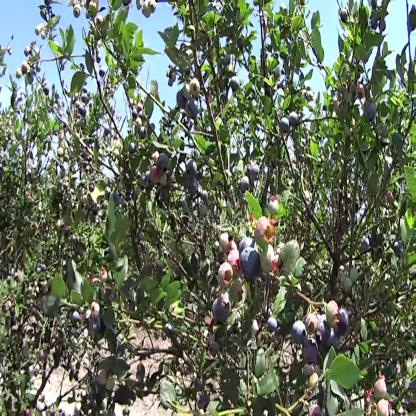intermediate: (258, 218, 282, 273), (220, 255, 240, 286), (374, 379, 388, 398), (149, 166, 160, 185), (92, 303, 101, 316)
mature: (243, 247, 260, 274), (214, 293, 230, 320), (281, 113, 298, 136), (186, 163, 200, 189), (317, 324, 333, 346), (304, 342, 318, 364), (157, 156, 171, 175), (292, 324, 306, 342), (250, 162, 264, 179), (340, 308, 349, 333), (364, 101, 377, 118), (231, 72, 241, 94), (268, 314, 279, 333), (90, 319, 103, 334), (177, 91, 187, 108), (242, 176, 251, 192), (190, 100, 198, 116)
young: (137, 1, 159, 23), (338, 272, 355, 292), (327, 299, 338, 328), (185, 82, 200, 98), (305, 313, 316, 334), (86, 1, 98, 19), (377, 401, 391, 416)
